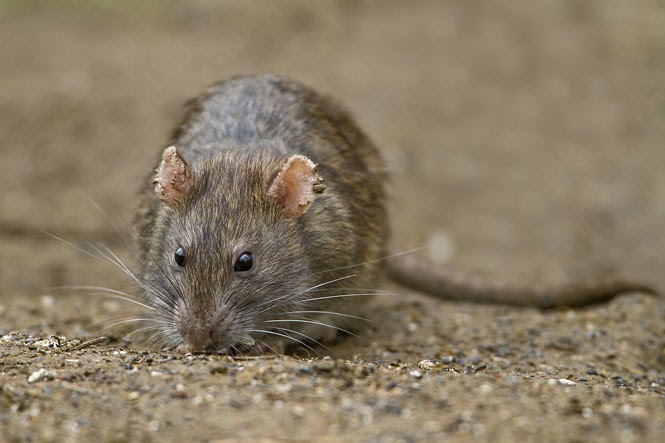rat: (85, 61, 466, 374)
